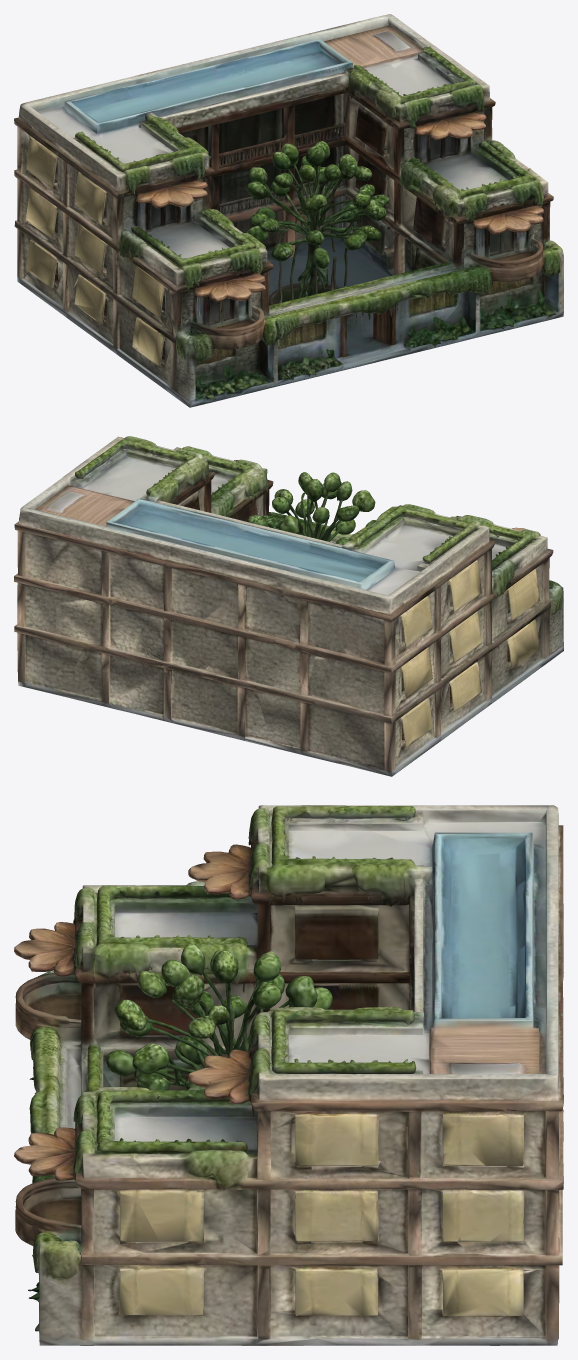
File: lodgelo.glb
3 views of the same model, one above another, from view 1: azimuth 30°, elevation 25°; view 2: azimuth 150°, elevation 25°; view 3: azimuth 270°, elevation 25° (orthographic). The views are drawn at different scales.
Visible parts, largest first — view 1: tripo_node_b8540c85-145f-4e7c-acbf-9ed8f51119fb; view 2: tripo_node_b8540c85-145f-4e7c-acbf-9ed8f51119fb; view 3: tripo_node_b8540c85-145f-4e7c-acbf-9ed8f51119fb.
Boxes of the visible parts, bbox=[...] form: tripo_node_b8540c85-145f-4e7c-acbf-9ed8f51119fb: bbox=[14, 14, 563, 407]; tripo_node_b8540c85-145f-4e7c-acbf-9ed8f51119fb: bbox=[14, 436, 563, 776]; tripo_node_b8540c85-145f-4e7c-acbf-9ed8f51119fb: bbox=[14, 805, 563, 1345].
Size of the model in its own units: 0.9998 by 0.4559 by 0.8274.
1 material, 1 textured.
